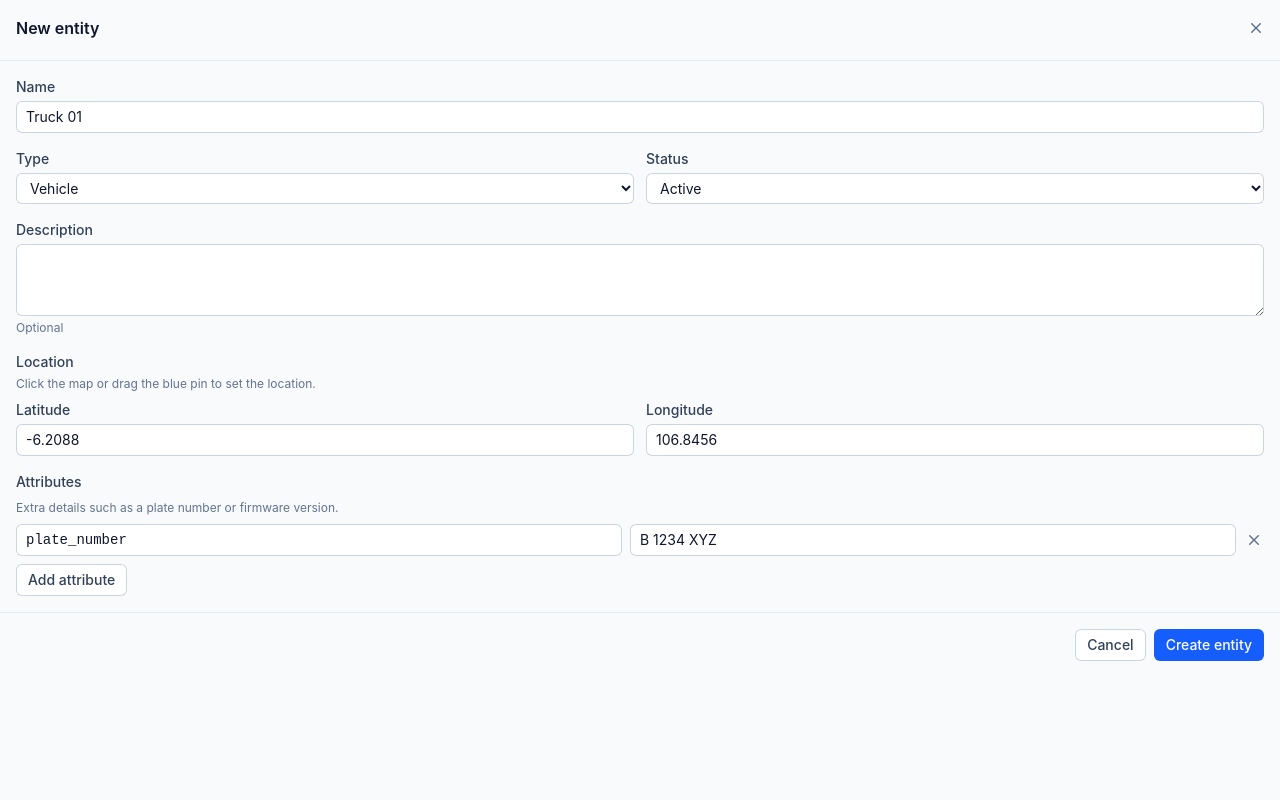
it: EntityForm › shows server validation errors on the matching fields
The width and height of the screenshot is (1280, 800).
Click the button "Create entity".
click(1209, 645)  # box [1154, 629, 1264, 661]
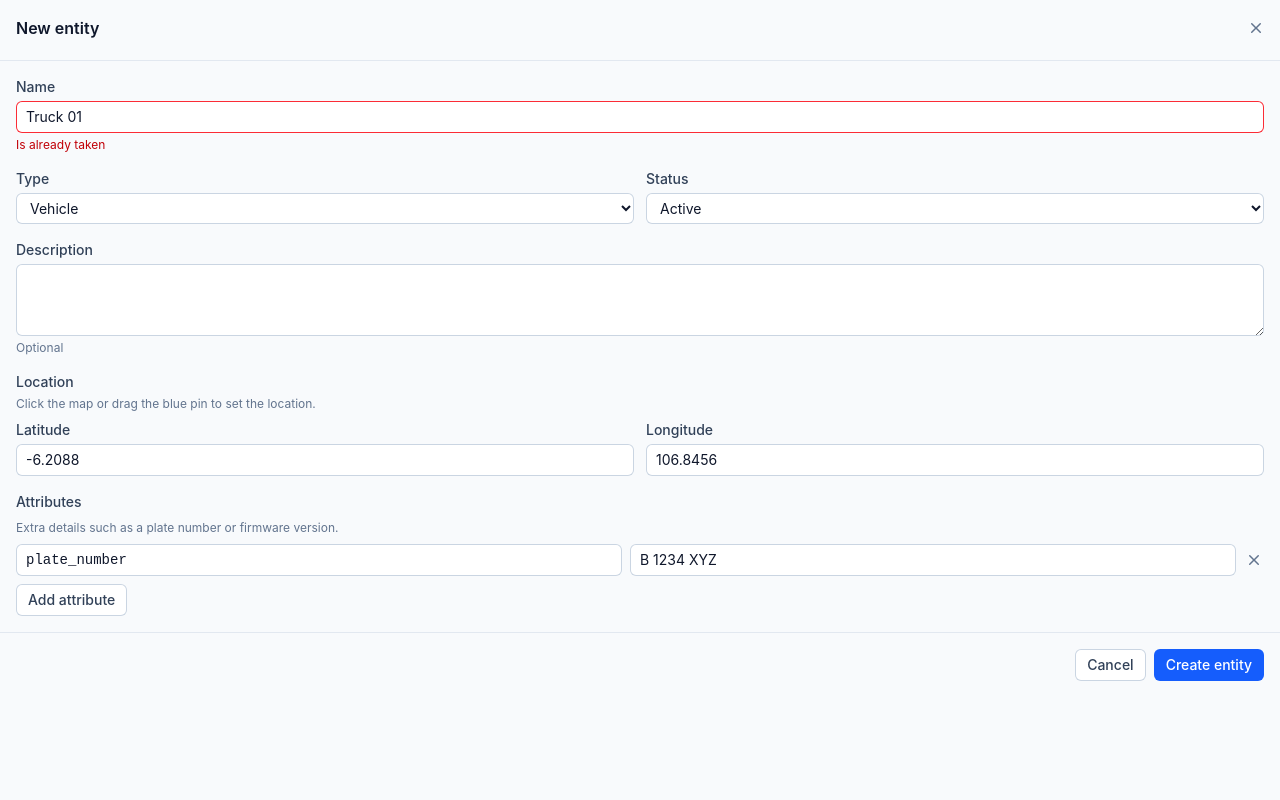
Now the text "Is already taken" is shown, box [16, 137, 105, 152]
